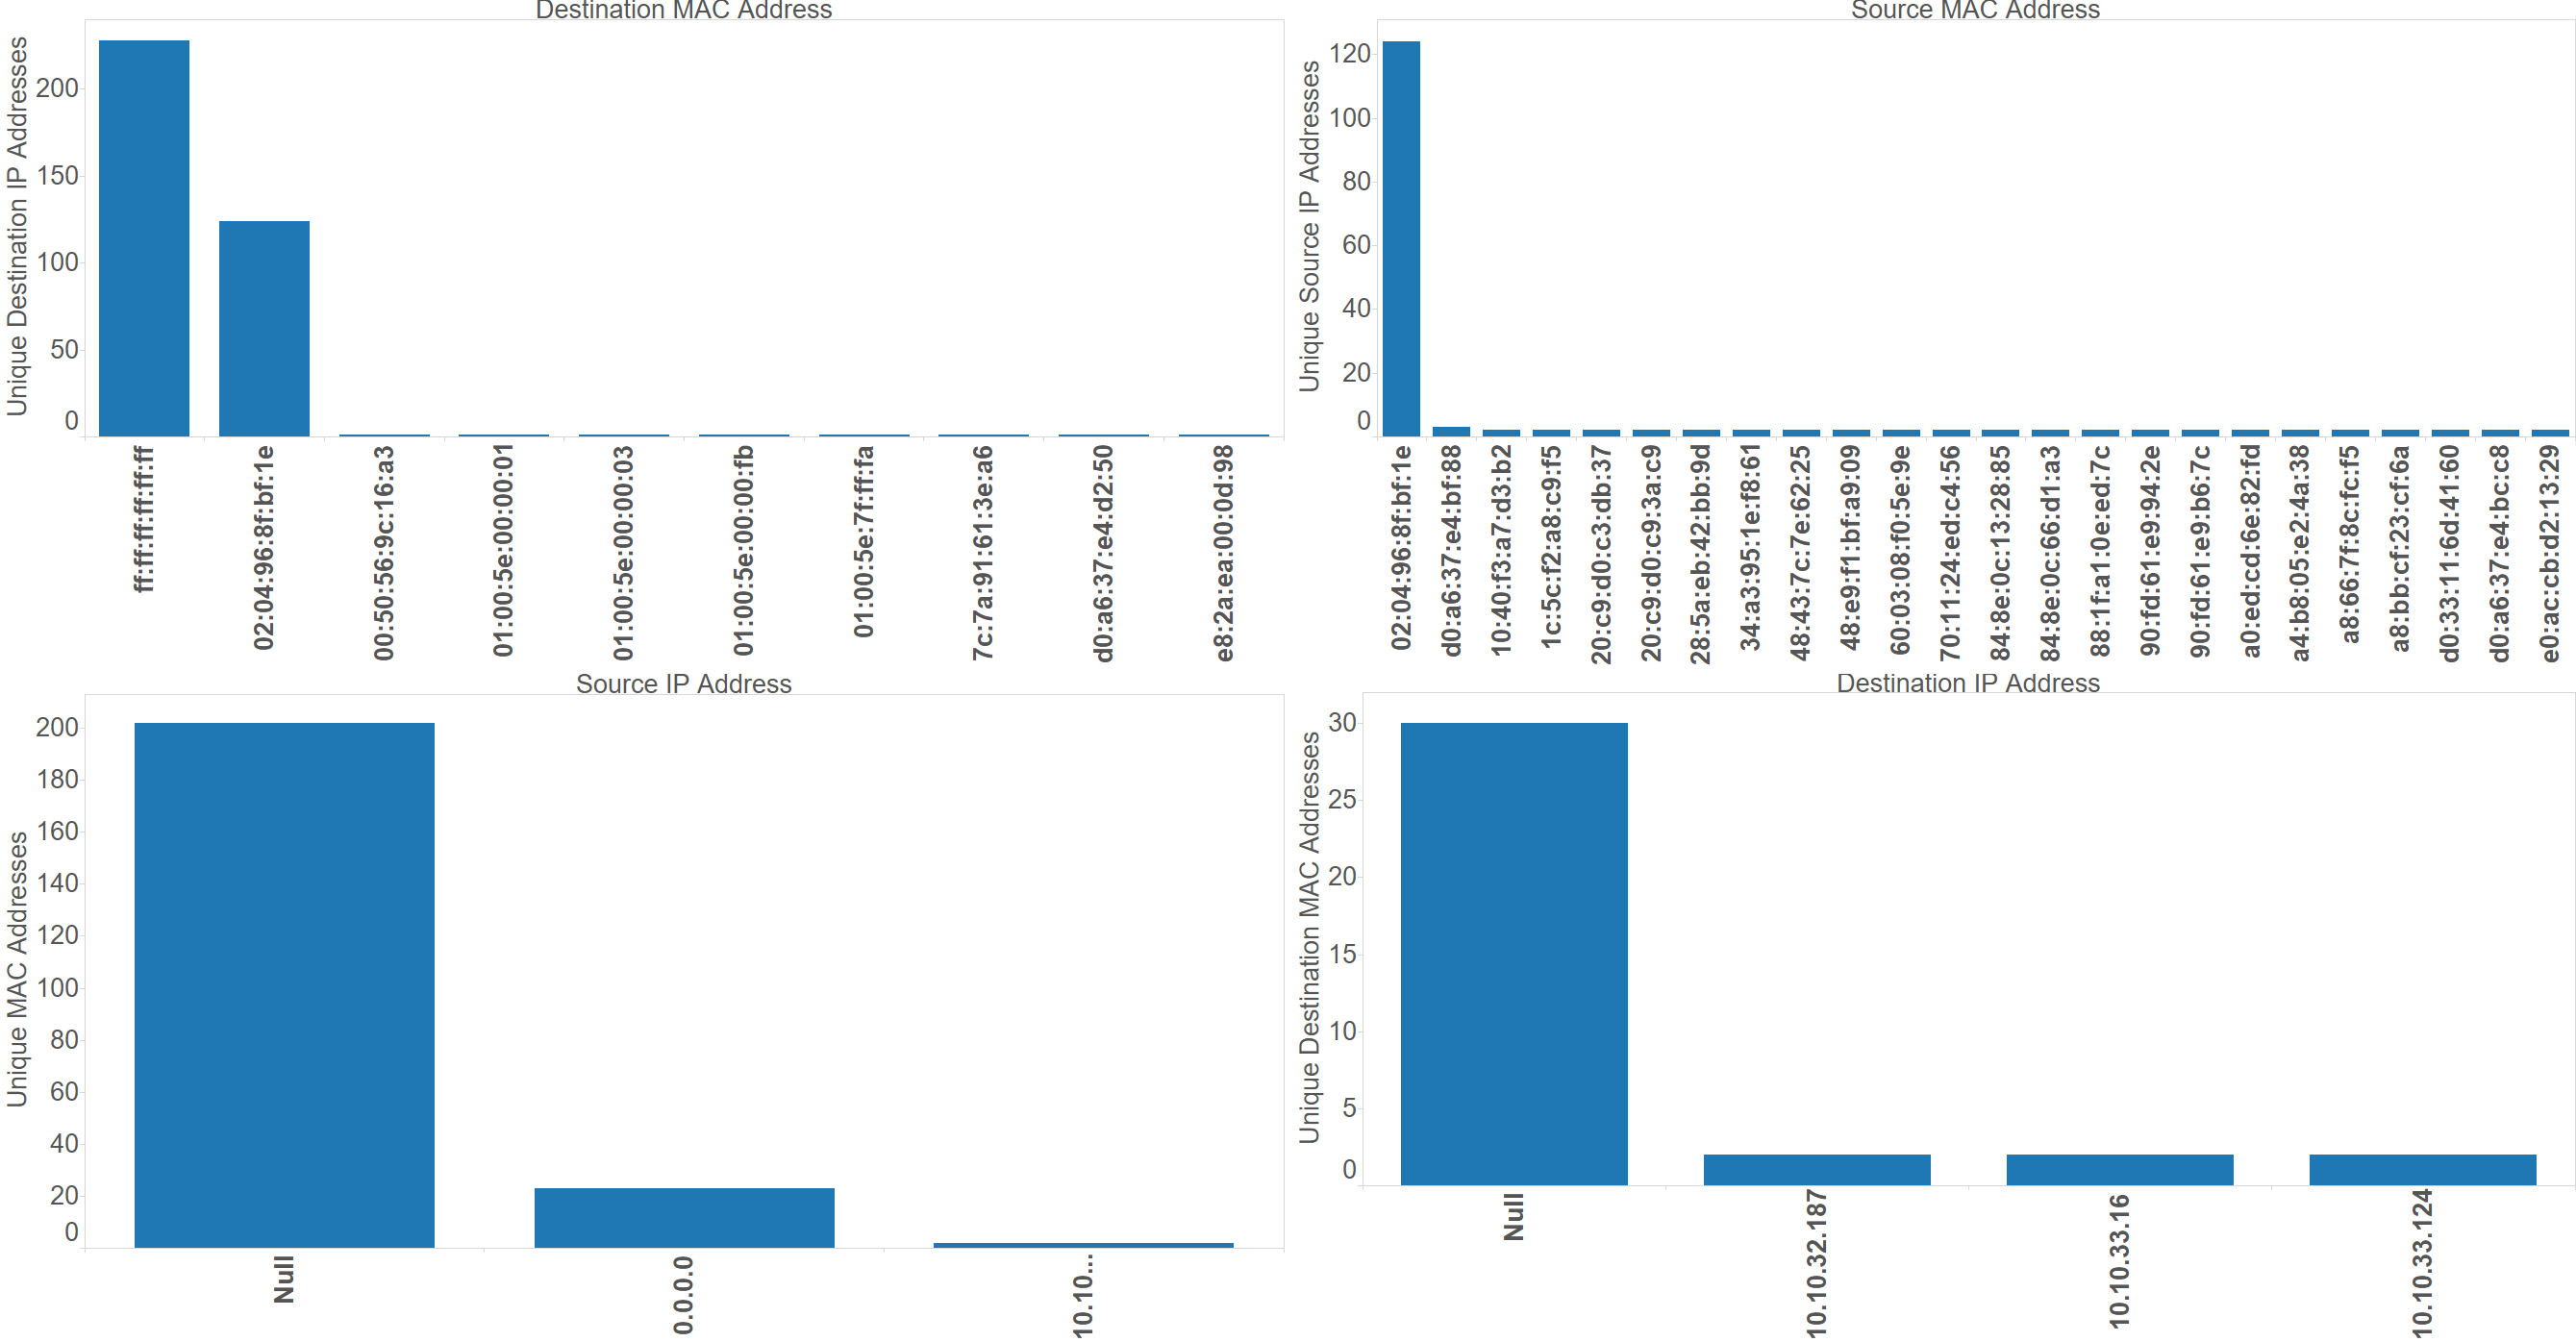

Layout of this report page (visuals, bound fields, positions):
{"tool":"tableau","page":{"name":"IP vs MAC Correspondence","canvas":[1000,1000],"units":"permille","ordinal":0},"visuals":[{"type":"worksheet","title":"IP Addresses per Dst MAC","mark":"Automatic","rows":["ipdst"],"cols":["hwdst"],"box":[0,0,500,500]},{"type":"worksheet","title":"IP Addresses per Src MAC","mark":"Automatic","rows":["ipsrc"],"cols":["hwsrc"],"box":[500,0,500,500]},{"type":"worksheet","title":"MAC Addresses per Src IP","mark":"Automatic","rows":["hwsrc"],"cols":["ipsrc"],"box":[0,500,500,500]},{"type":"worksheet","title":"MAC Addresses per Dst IP","mark":"Automatic","rows":["hwdst"],"cols":["ipdst"],"box":[500,500,500,500]}]}

Visuals, with their boxes on the dashboard's canvas, which has no fixed pixel size, in thousandths of its width and height (x1, y1, x2, y2). These are canvas units, not pixel positions in the 2576x1342 screenshot, which may show the page scaled, cropped or inside an application window:
"IP Addresses per Dst MAC" worksheet: (0,0,500,500)
"IP Addresses per Src MAC" worksheet: (500,0,1000,500)
"MAC Addresses per Src IP" worksheet: (0,500,500,1000)
"MAC Addresses per Dst IP" worksheet: (500,500,1000,1000)
